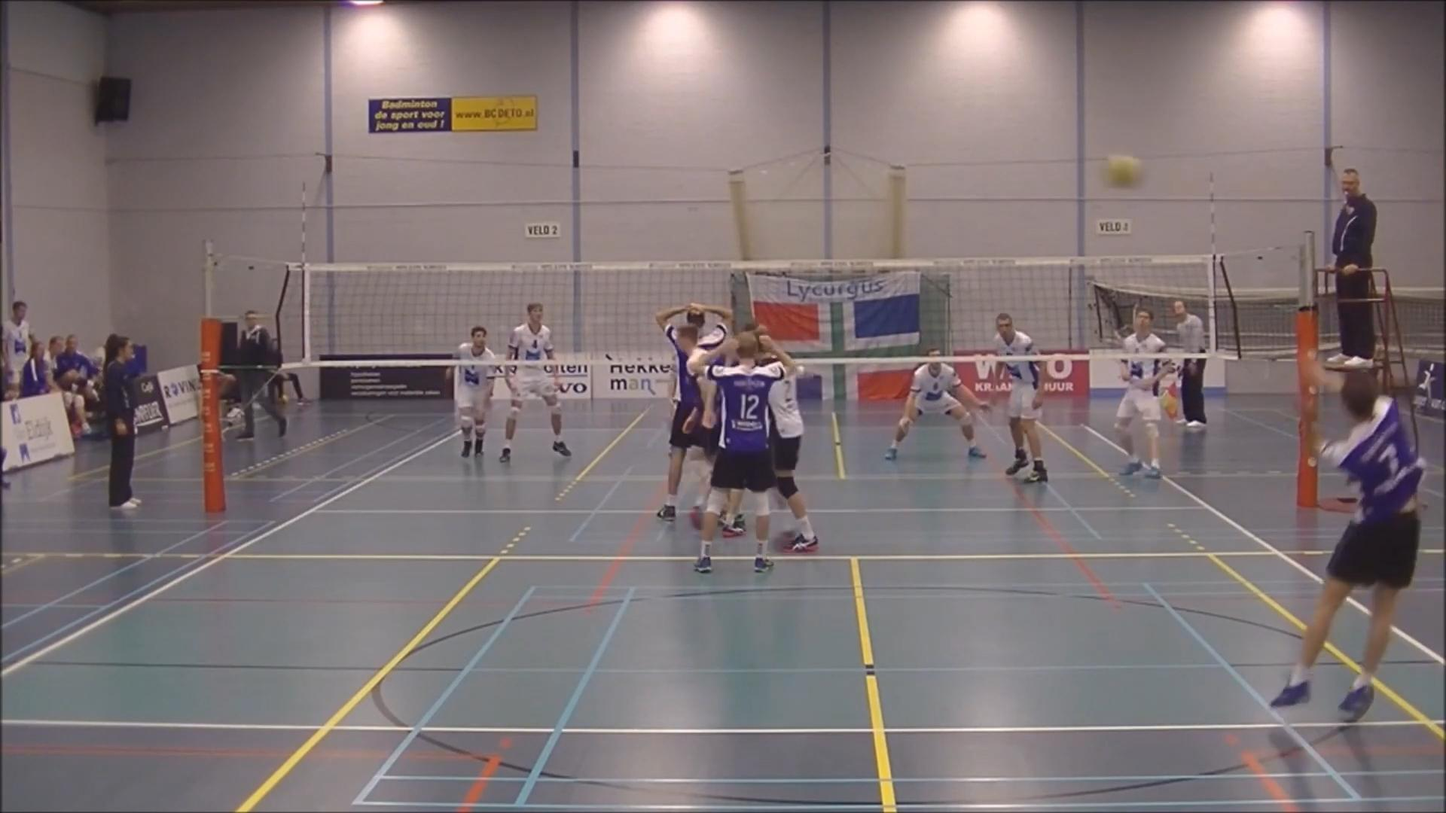Player: (690, 333, 795, 572), (655, 303, 731, 520), (885, 361, 989, 460), (1115, 308, 1173, 478), (769, 364, 818, 553), (500, 364, 571, 461), (446, 326, 496, 457), (1001, 361, 1048, 482)
Serve: (1273, 340, 1446, 702)
ball: (1097, 146, 1154, 199)
